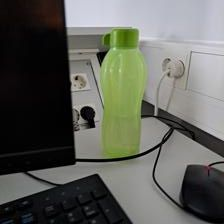bottle: (97, 26, 148, 159)
